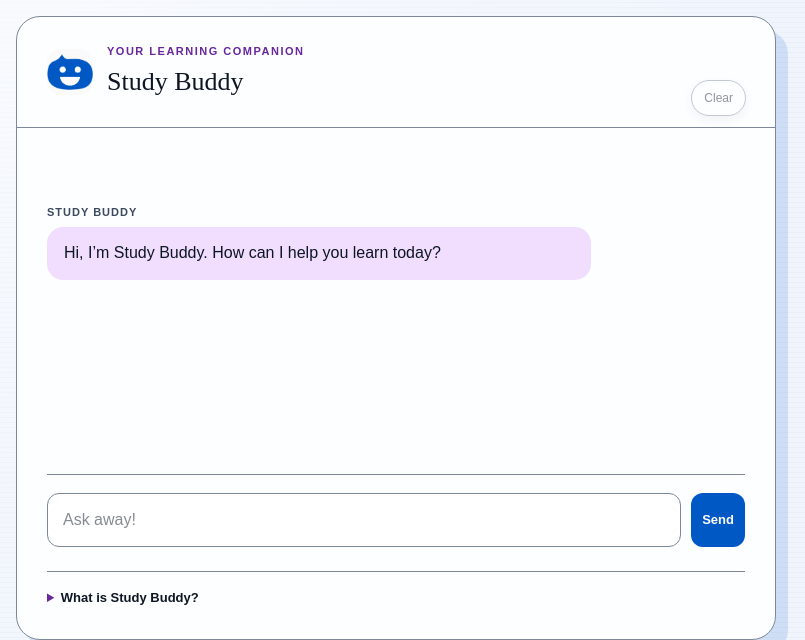
Test: ChatInterface › retries the last message with the existing send button
Type "Retry this" into the field with placeholder "Ask away!" at (364, 520), box [47, 492, 681, 546]
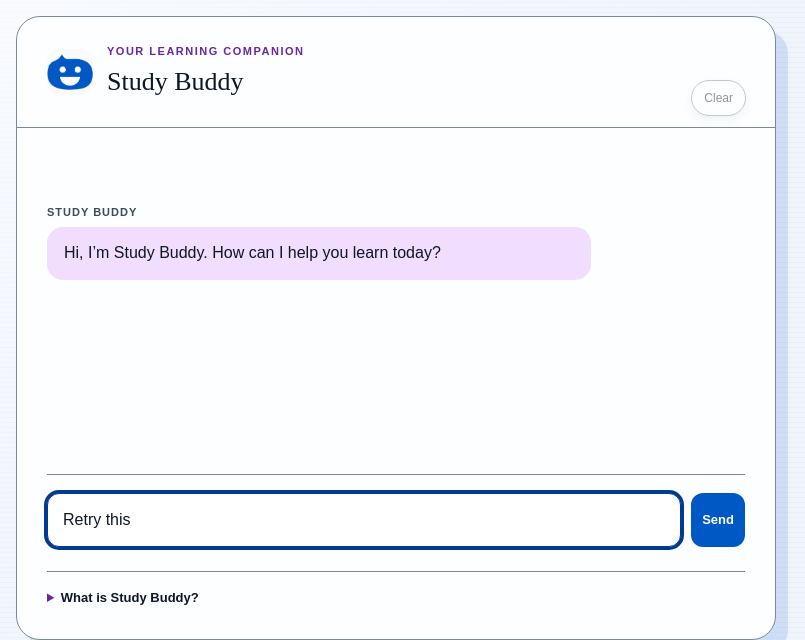
Click the button with aria-label "Send message" at (718, 520), box [691, 492, 745, 546]
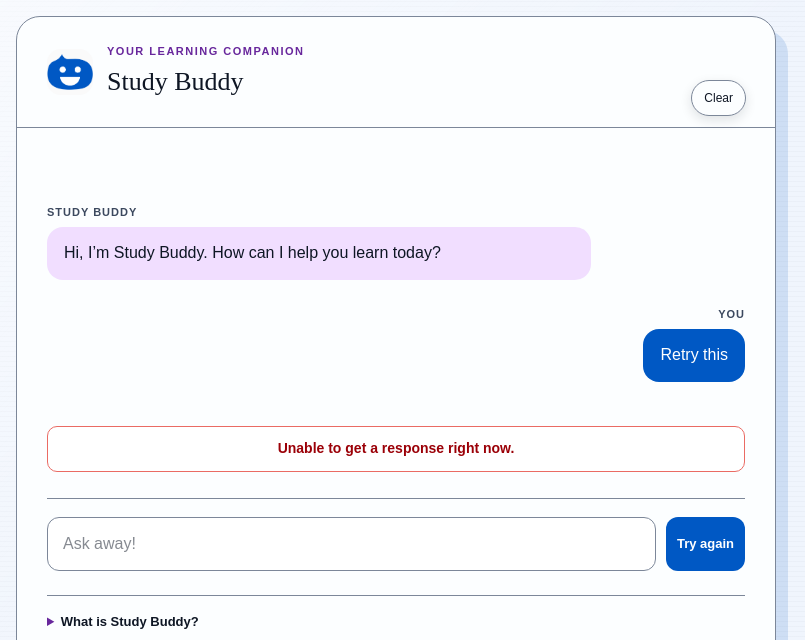
Now the button "Try again" is shown
Click the button "Try again" at (705, 544), box [666, 517, 745, 571]
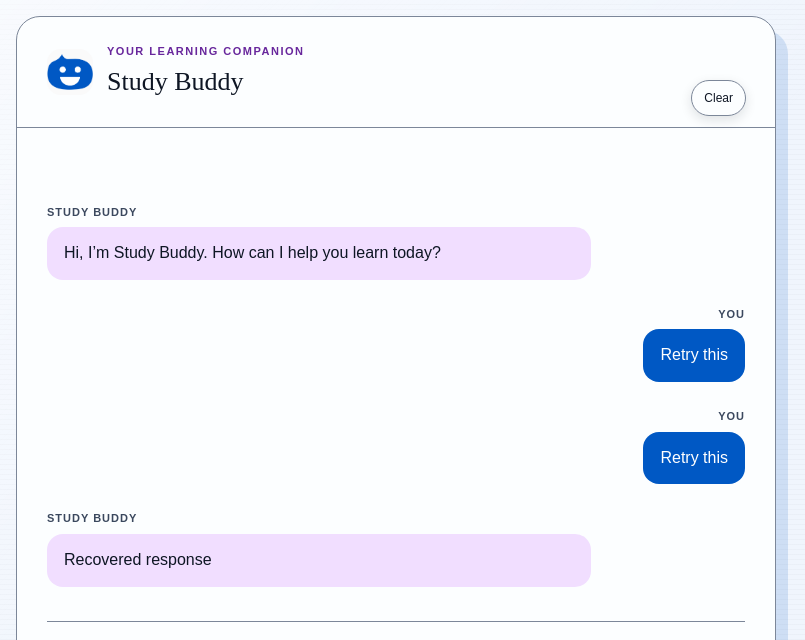
Now the text "Recovered response" is shown, box [64, 551, 212, 568]
